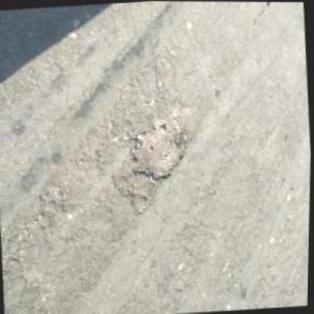Hueco: (125, 111, 192, 187)
